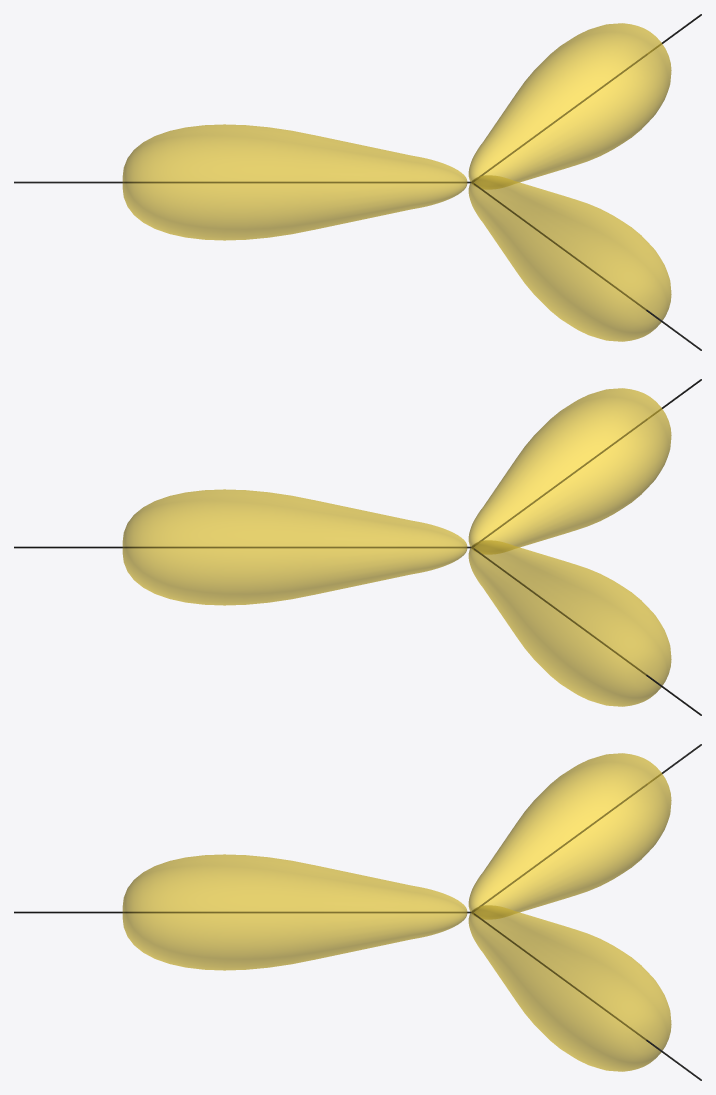
The model's file is sp2_hybridization.glb.
3 views of the same model, one above another, from view 1: azimuth 30°, elevation 25°; view 2: azimuth 150°, elevation 25°; view 3: azimuth 270°, elevation 25° (orthographic).
Visible parts, largest first — view 1: Cylinder.002, Cylinder.005; view 2: Cylinder.002, Cylinder.005; view 3: Cylinder.002, Cylinder.005.
Boxes of the visible parts, left/top/right/bottom form: Cylinder.002: left=122, top=23, right=671, bottom=341; Cylinder.005: left=14, top=14, right=701, bottom=350; Cylinder.002: left=122, top=388, right=671, bottom=706; Cylinder.005: left=14, top=379, right=701, bottom=715; Cylinder.002: left=122, top=753, right=671, bottom=1071; Cylinder.005: left=14, top=744, right=701, bottom=1080.
Size of the model in its own units: 2.3 by 0.3358 by 1.99.
